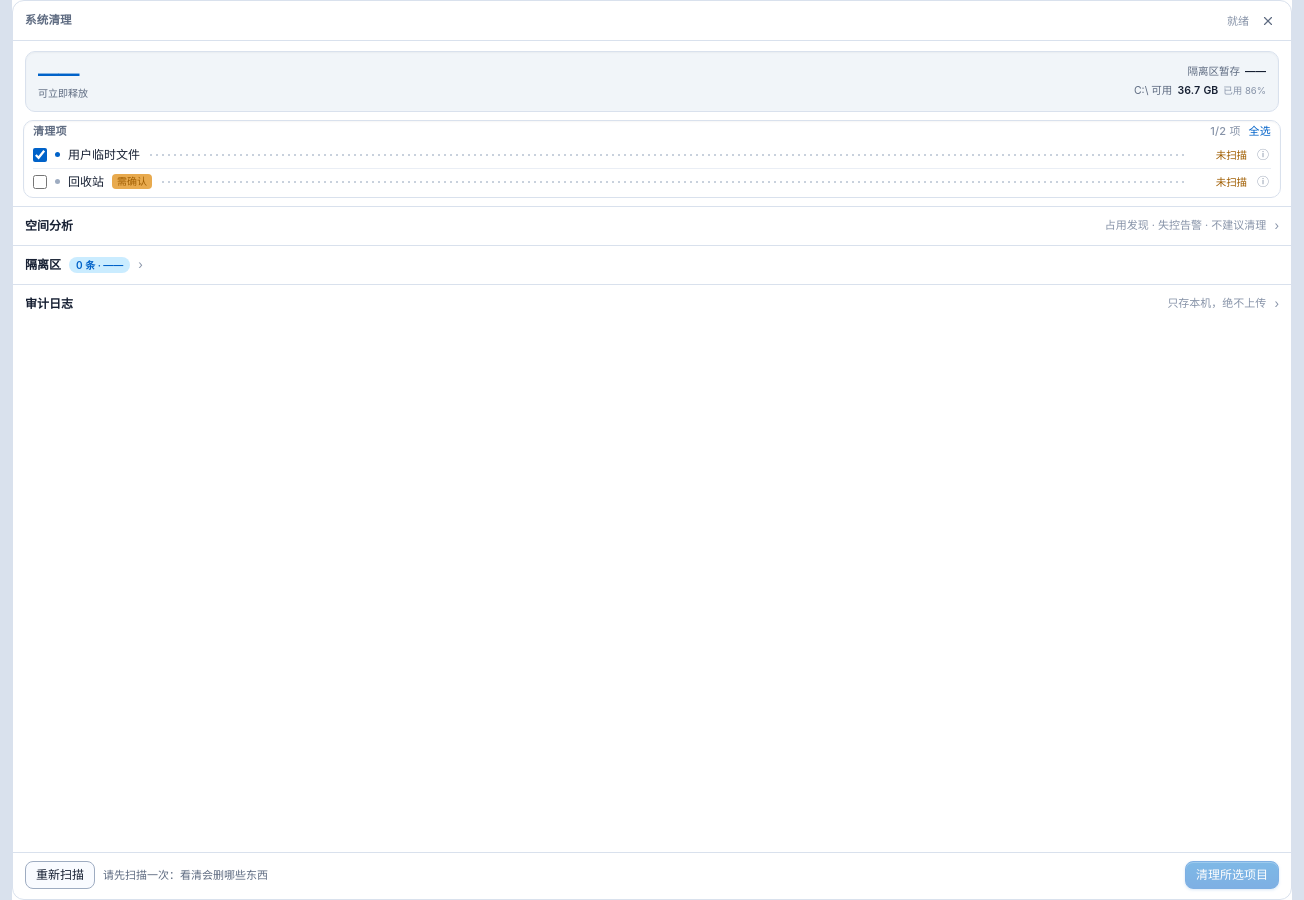
Test: SystemCleanerTool › 隔离区为空时给出可操作的说明，而不是一片空白
This screenshot has width=1304, height=900.
Click the button "隔离区 0 条 · —— ›" at (43, 264), box [13,245,1291,284]
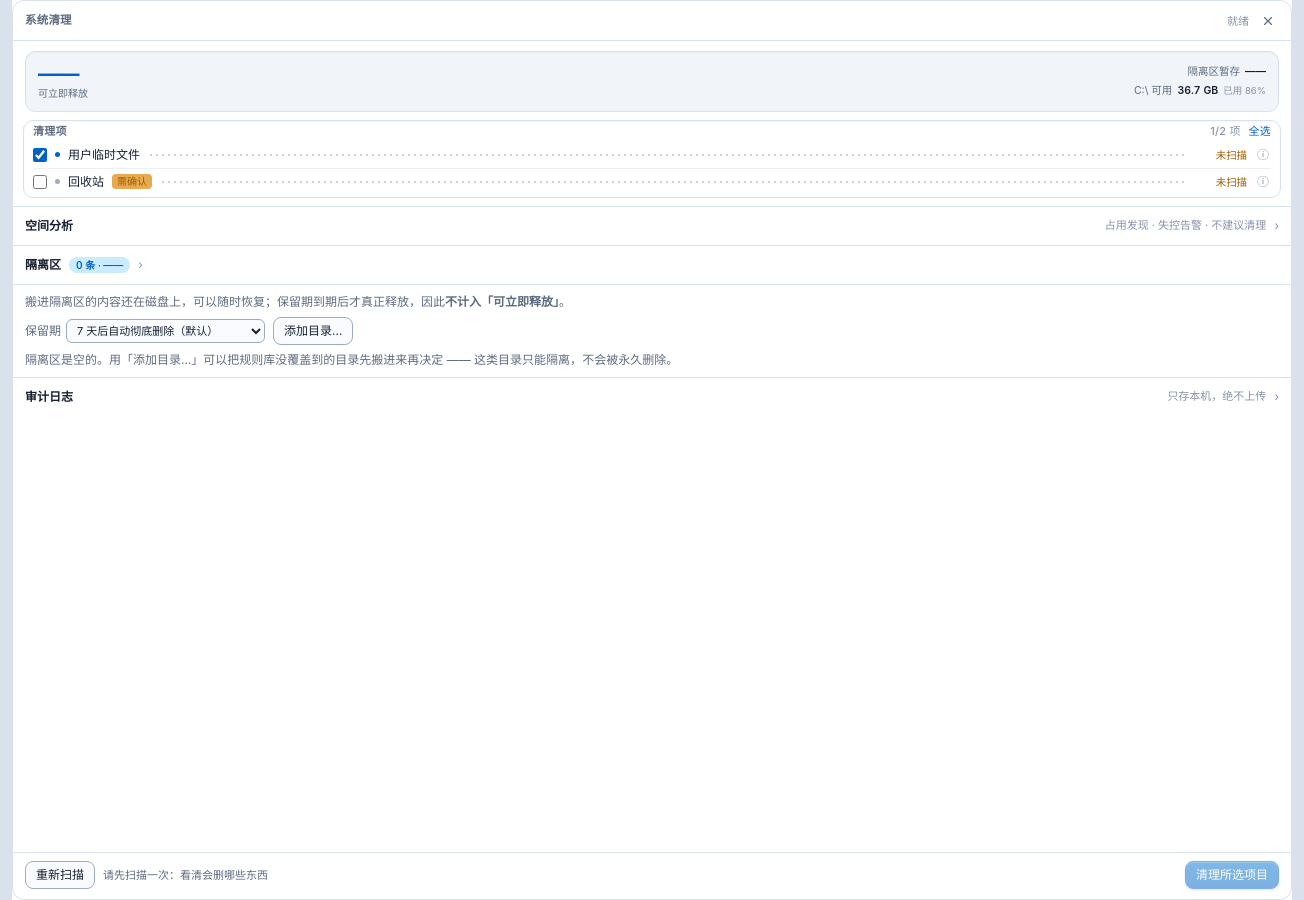
Now the text "隔离区是空的。用「添加目录…」可以把规则库没覆盖到的目录先搬进来再决定 —— 这类目录只能隔离，不会被永久删除。" is shown, box [25,352,678,367]
Now the button "添加目录…" is shown, box [273,317,353,345]
